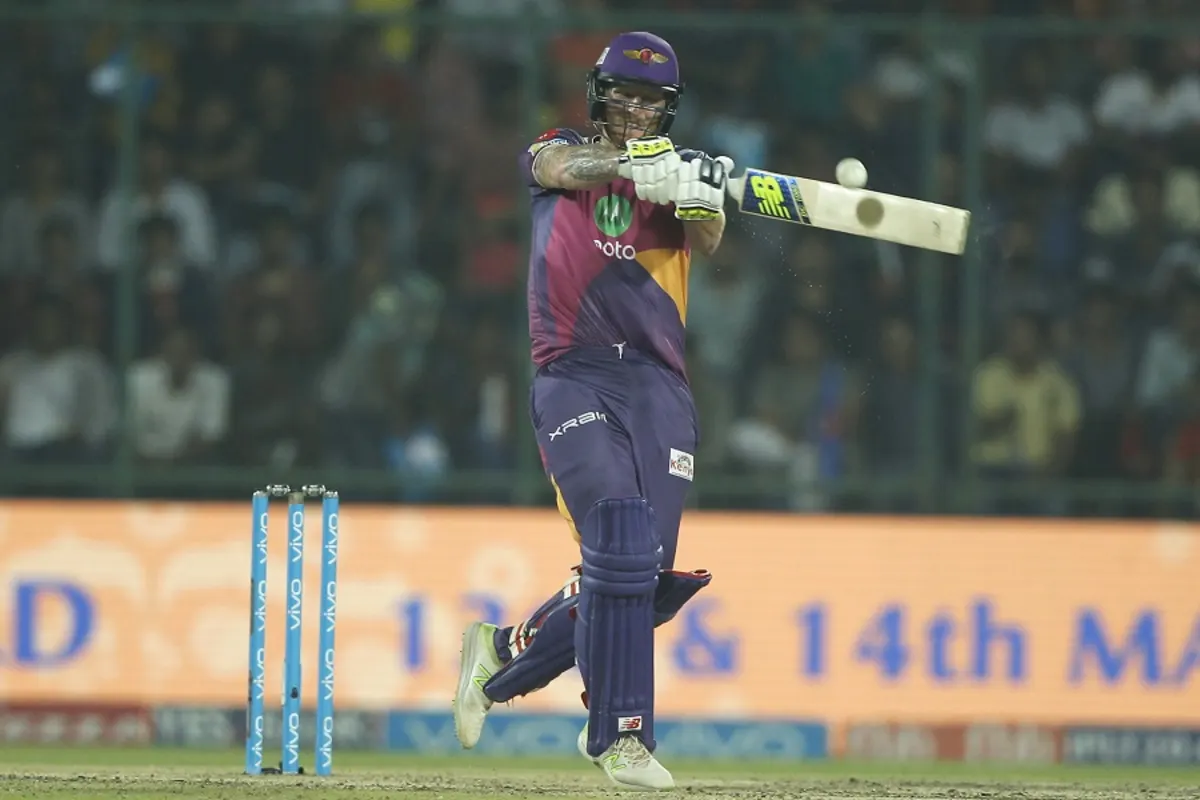Pullshot: (176, 0, 1120, 800)
